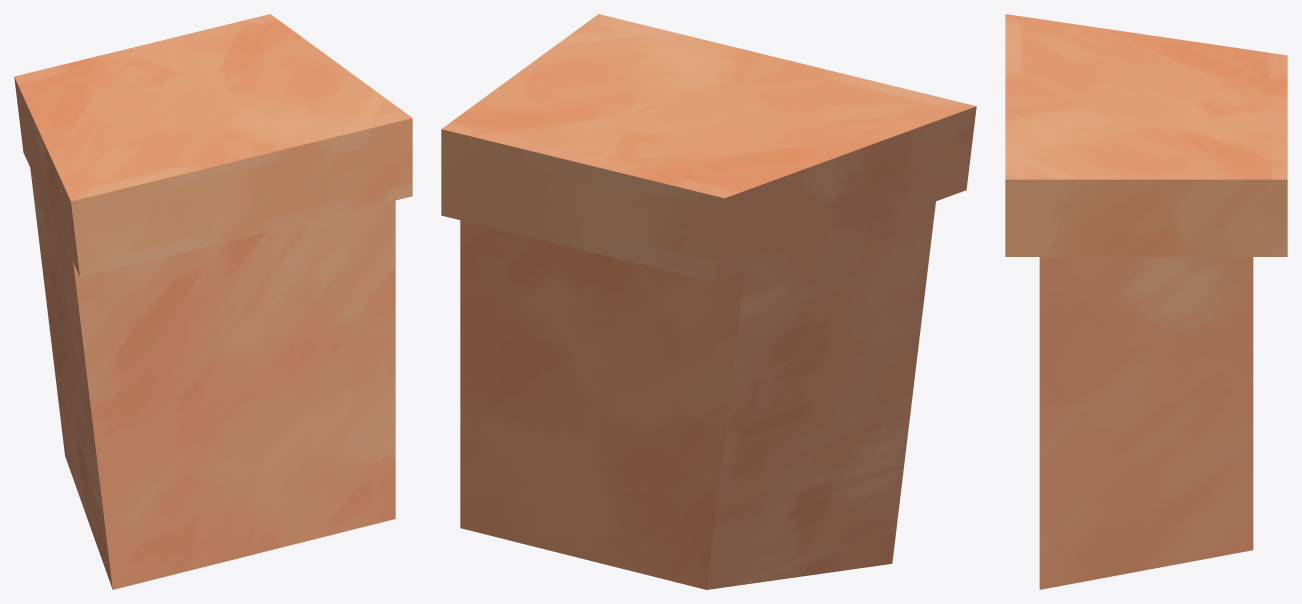
The model's file is parapet_plain_s03.fbx.
The picture shows the model from 3 angles, left to right: view 1: azimuth 30°, elevation 25°; view 2: azimuth 150°, elevation 25°; view 3: azimuth 270°, elevation 25°; orthographic projection. The views are drawn at different scales.
Parts seen in each view (by area): view 1: parapet_plain_s03; view 2: parapet_plain_s03; view 3: parapet_plain_s03.
Boxes of the visible parts, <box> form: parapet_plain_s03: <box>14,14,412,589</box>; parapet_plain_s03: <box>441,14,976,589</box>; parapet_plain_s03: <box>1005,14,1287,589</box>.
Size of the model in its own units: 1.83 by 2.13 by 1.32.
